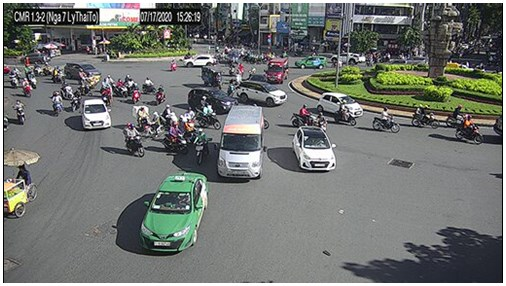xe_ba_gac: (201, 67, 223, 89)
xe_ban_tai: (330, 52, 366, 65), (19, 53, 52, 63)
xe_hoi: (140, 172, 207, 253), (291, 124, 336, 172), (317, 91, 364, 119), (188, 87, 238, 113), (237, 81, 287, 106), (82, 99, 111, 130), (63, 62, 102, 79), (295, 55, 328, 69), (183, 54, 216, 68), (404, 56, 429, 65)
xe_khach: (219, 105, 263, 181), (266, 58, 287, 82)
xe_may: (371, 106, 401, 135), (163, 121, 187, 154), (456, 115, 482, 145), (123, 123, 145, 158), (411, 105, 439, 129), (290, 104, 318, 127), (143, 112, 165, 141), (445, 104, 471, 127), (335, 101, 357, 128), (193, 128, 209, 163), (132, 106, 152, 132), (161, 103, 178, 128), (12, 100, 26, 125), (113, 79, 129, 100), (122, 75, 140, 92), (51, 90, 62, 117), (69, 88, 80, 114), (141, 77, 157, 94), (51, 64, 65, 83), (61, 81, 74, 101), (131, 82, 142, 105), (154, 85, 166, 106), (102, 85, 113, 107), (23, 77, 32, 98), (25, 62, 36, 79), (9, 70, 19, 88), (103, 76, 115, 90), (169, 59, 177, 70)
